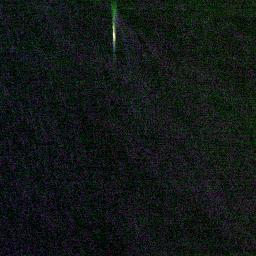Ship: (109, 22, 119, 46)
